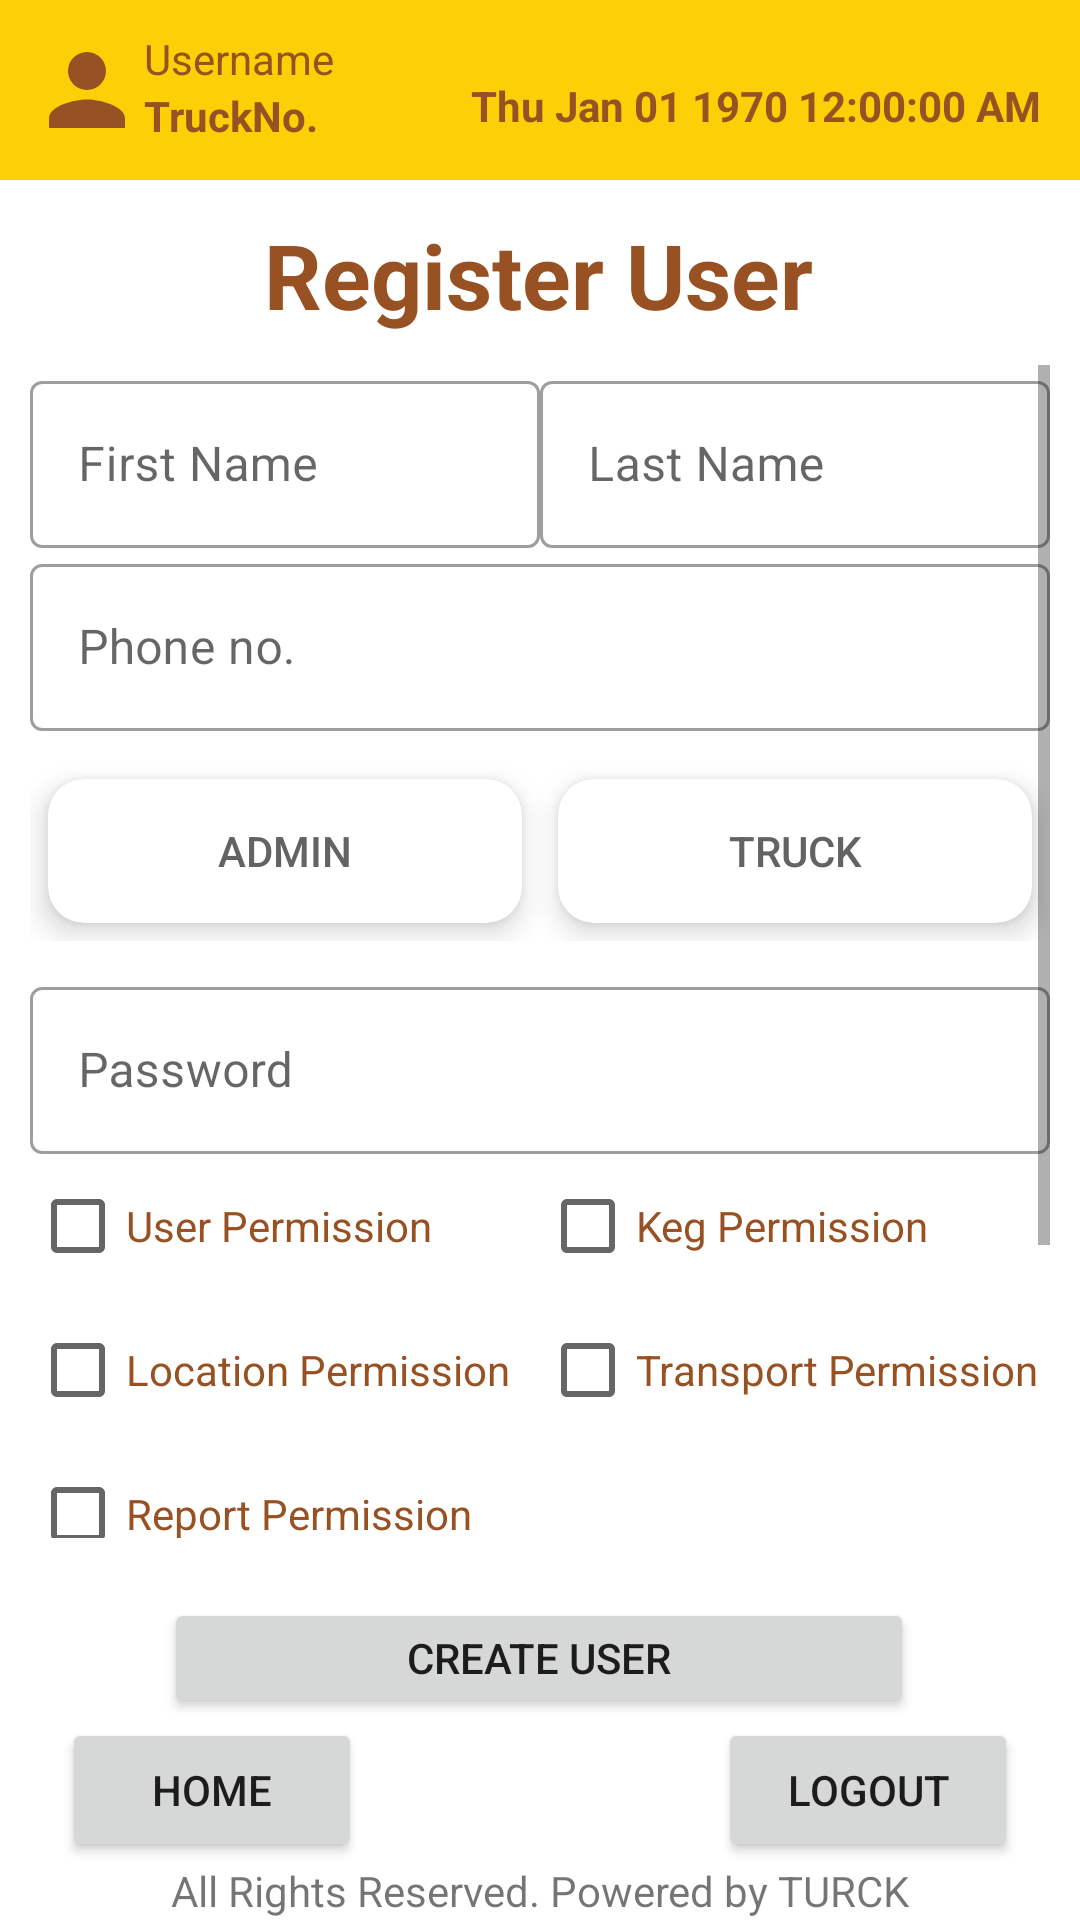

Icon bounding boxes for this 1080*1920 phone screenshot, format [x1=x1, y1=y1, x2=x2, y2=y2]:
person: [x1=49, y1=52, x2=125, y2=128]
